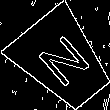N_SE: (30, 29, 95, 93)
